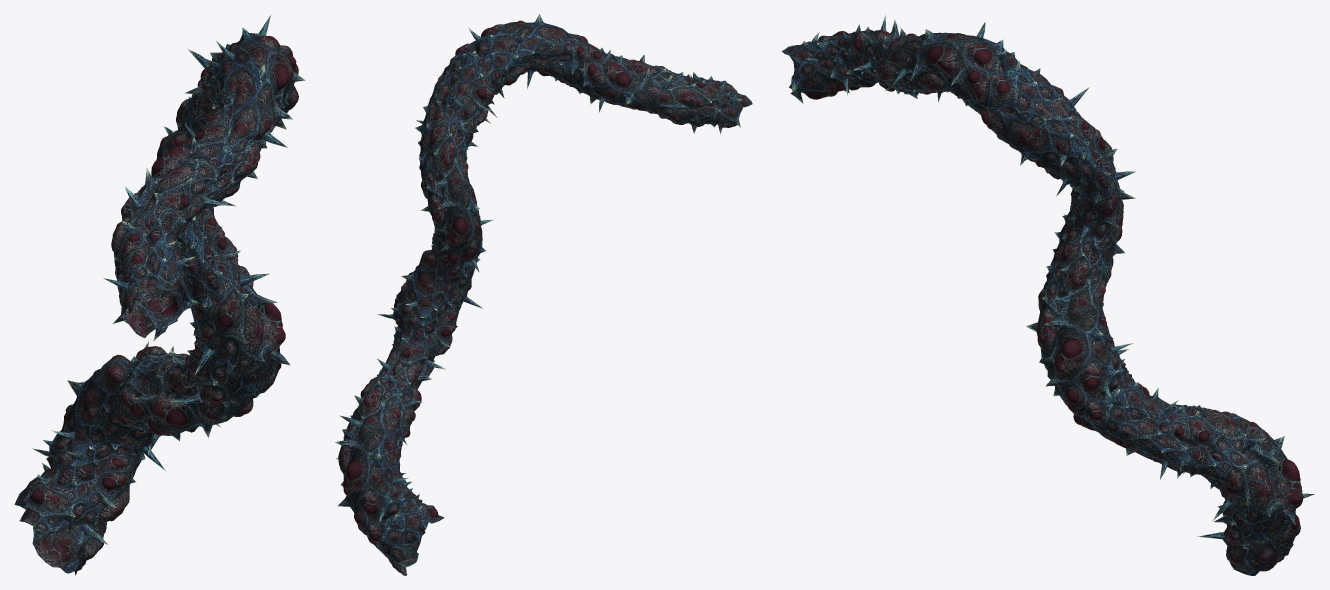
Rendered from backup.fbx.
The picture shows the model from 3 angles, left to right: view 1: azimuth 30°, elevation 25°; view 2: azimuth 150°, elevation 25°; view 3: azimuth 270°, elevation 25°; orthographic projection. The views are drawn at different scales.
Visible parts, largest first — view 1: LODGroup_1_MainMesh_1_SubMesh_1, LODGroup_1_MainMesh_1_SubMesh_2; view 2: LODGroup_1_MainMesh_1_SubMesh_1, LODGroup_1_MainMesh_1_SubMesh_2; view 3: LODGroup_1_MainMesh_1_SubMesh_1, LODGroup_1_MainMesh_1_SubMesh_2.
Boxes of the visible parts, bbox=[...] form: LODGroup_1_MainMesh_1_SubMesh_1: bbox=[19, 15, 305, 575]; LODGroup_1_MainMesh_1_SubMesh_2: bbox=[14, 27, 286, 550]; LODGroup_1_MainMesh_1_SubMesh_1: bbox=[335, 22, 743, 575]; LODGroup_1_MainMesh_1_SubMesh_2: bbox=[342, 14, 752, 545]; LODGroup_1_MainMesh_1_SubMesh_1: bbox=[790, 15, 1314, 575]; LODGroup_1_MainMesh_1_SubMesh_2: bbox=[781, 24, 1287, 545].
Bounding box in the file's own units: 814 × 1462 × 1284.
